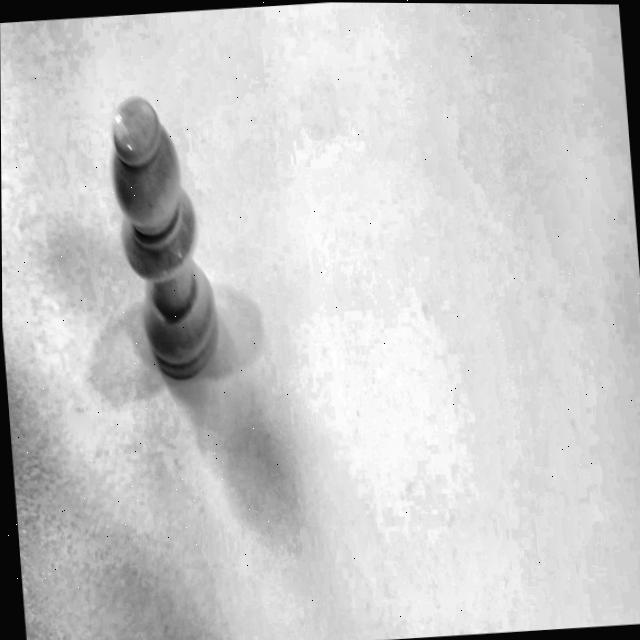white-bishop: (60, 6, 260, 435)
